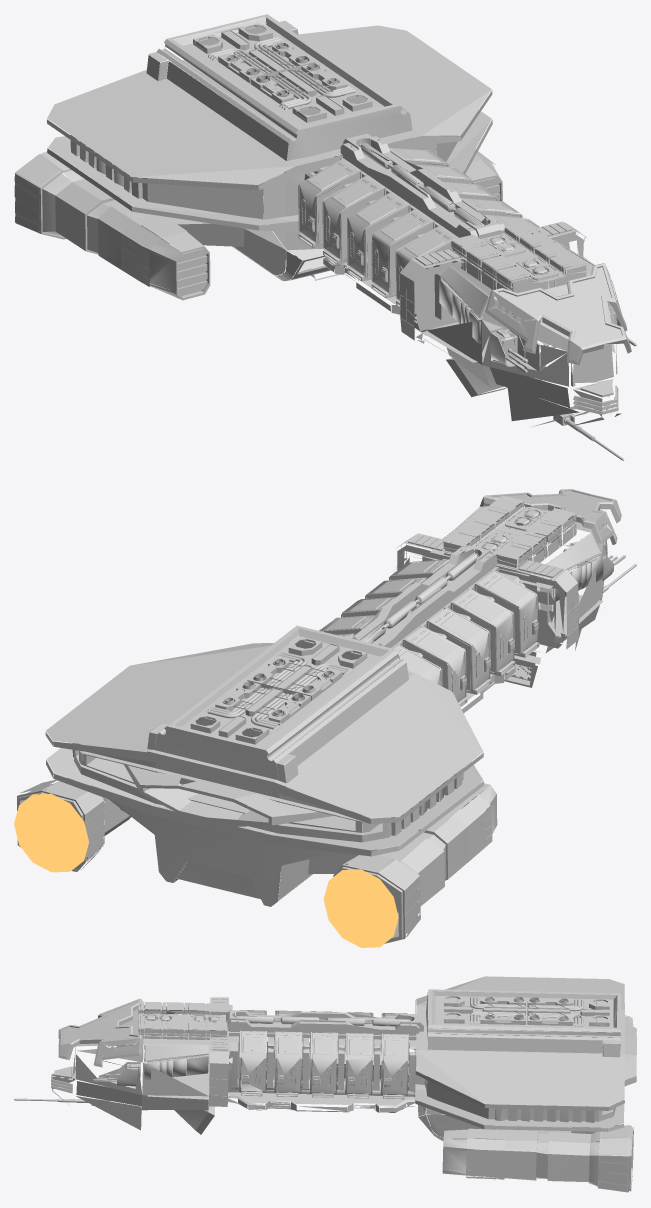
Rendered from cargo_game.glb.
3 renders of one model, top to bottom at view 1: azimuth 30°, elevation 25°; view 2: azimuth 150°, elevation 25°; view 3: azimuth 270°, elevation 25°, orthographic. The views are drawn at different scales.
Parts seen in each view (by area): view 1: cargo_game; view 2: cargo_game; view 3: cargo_game.
Part boxes in pixels (x1,y1,x2,y2): cargo_game: (14,14,636,460); cargo_game: (14,489,636,947); cargo_game: (14,976,636,1192).
Size of the model in its own units: 30.88 by 13.25 by 57.67.
